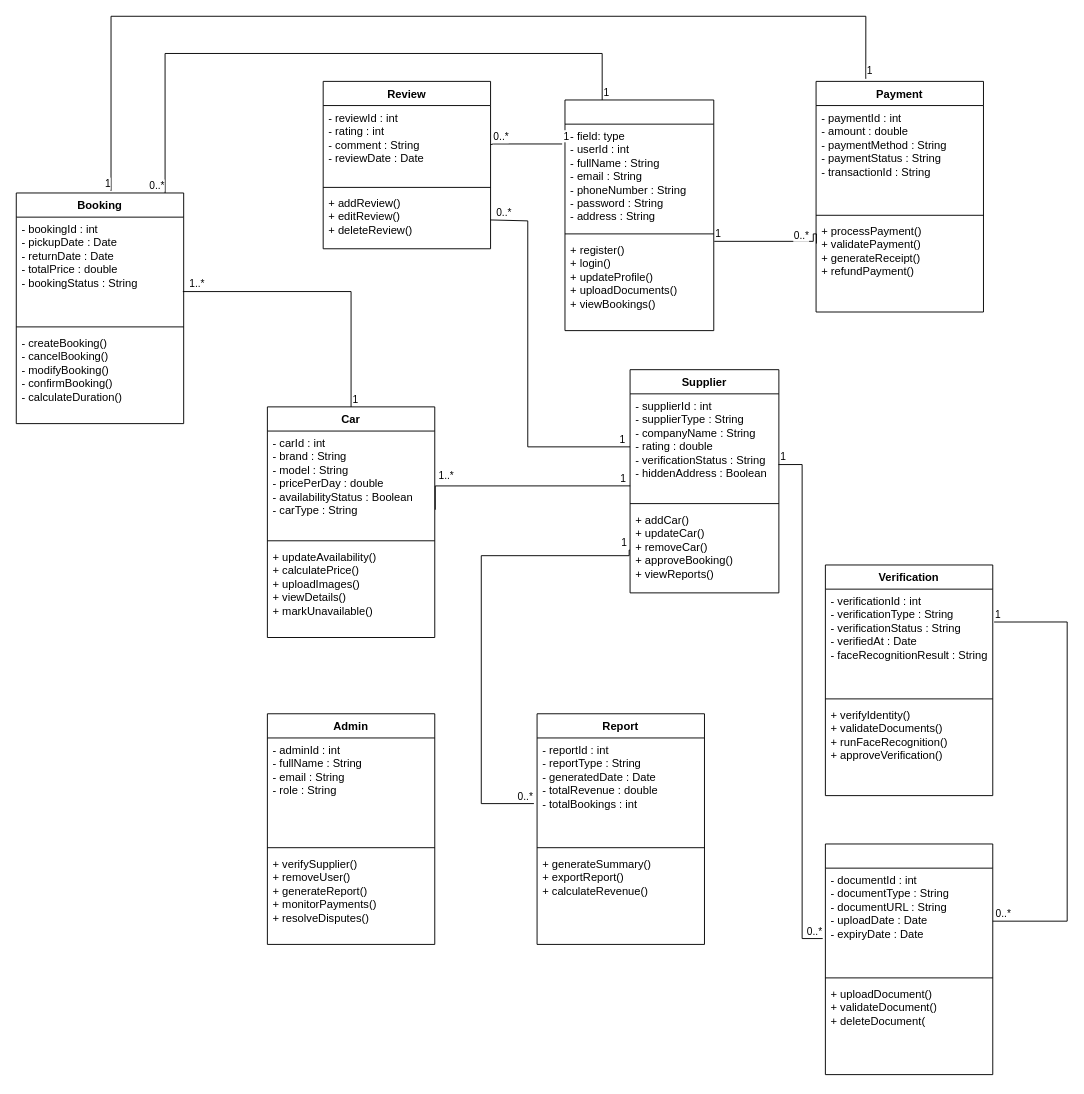
Image size: 1084x1094. Some labels were removed from this diagram. Here are the shapes that lost their labels. From the top down, the box of each, then its label:
(564, 99, 714, 331): Customer
(824, 843, 993, 1075): VerificationDocument
